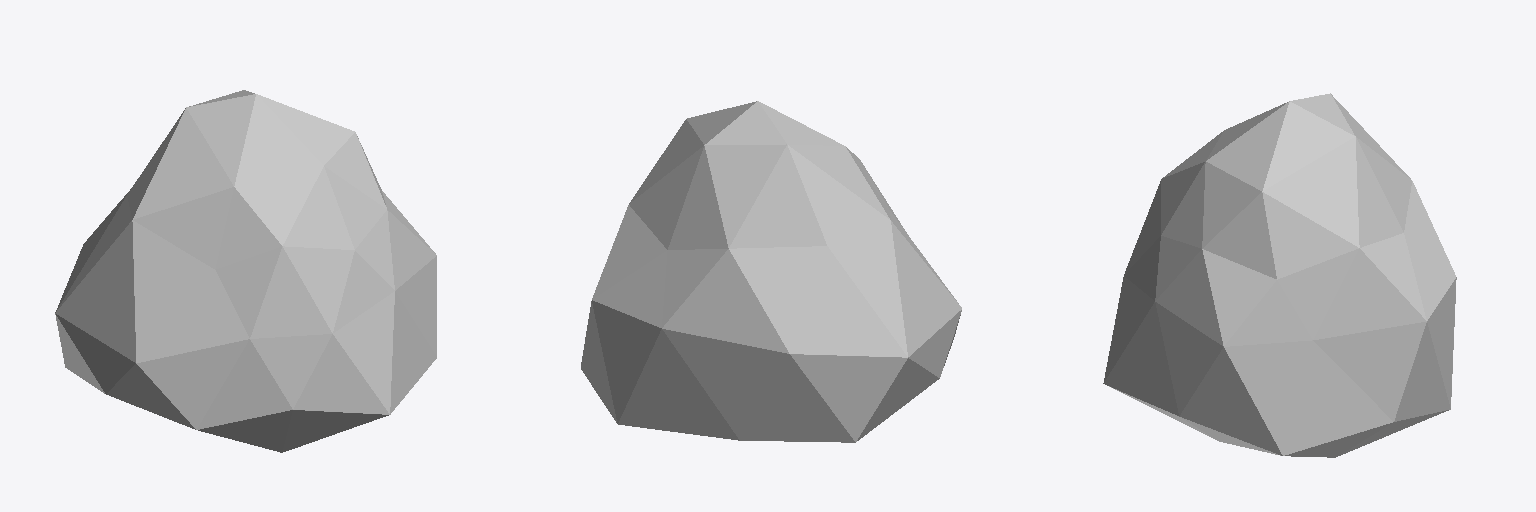
Rendered from st_tree_top_3.obj.
The picture shows the model from 3 angles: view 1: azimuth 30°, elevation 25°; view 2: azimuth 150°, elevation 25°; view 3: azimuth 270°, elevation 25°; orthographic projection.
Visible parts, largest first — view 1: TreeTop3_Icosphere; view 2: TreeTop3_Icosphere; view 3: TreeTop3_Icosphere.
Part boxes in pixels (left/top/right/bottom): TreeTop3_Icosphere: left=55, top=90, right=436, bottom=452; TreeTop3_Icosphere: left=581, top=101, right=961, bottom=442; TreeTop3_Icosphere: left=1103, top=93, right=1456, bottom=457.
Bounding box in the file's own units: 4.69 × 4.14 × 4.21.